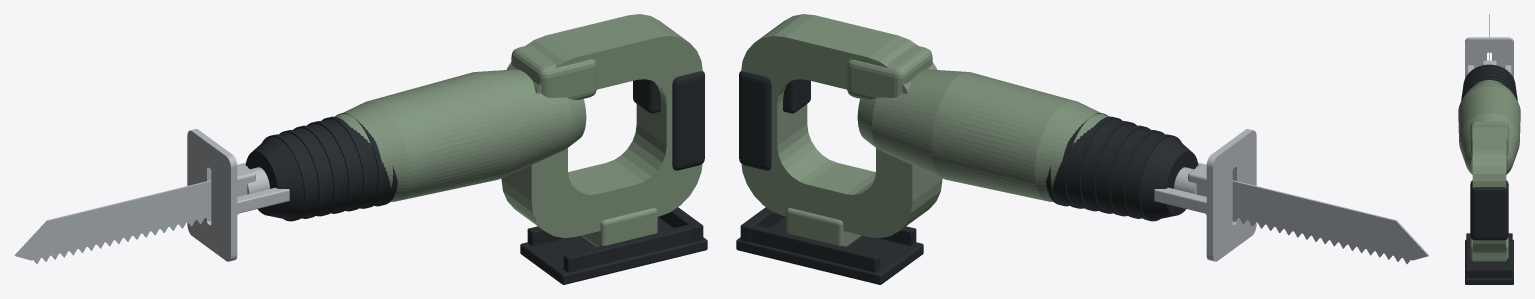
The model's file is full.fbx.
3 views of the same model, side by side, from view 1: azimuth 30°, elevation 25°; view 2: azimuth 150°, elevation 25°; view 3: azimuth 270°, elevation 25° (orthographic). The views are drawn at different scales.
Parts seen in each view (by area): view 1: Rear open D handle, Long motor housing, Front wrapped grip, Long static axial toothed blade, Small upright shoe with slot, Battery slide bottom plate, Rear dark hand grip, Upper rear shoulder, Battery slide rail -0.024, Battery mount neck, Shoe mounting stem -0.022, Inner trigger (+7 smaller); view 2: Rear open D handle, Long motor housing, Front wrapped grip, Long static axial toothed blade, Small upright shoe with slot, Battery slide bottom plate, Rear dark hand grip, Upper rear shoulder, Battery slide rail 0.024, Battery mount neck, Shoe mounting stem 0.022, Inner trigger (+7 smaller); view 3: Long motor housing, Rear open D handle, Rear dark hand grip, Small upright shoe with slot, Battery slide bottom plate, Battery slide rear stop, Front wrapped grip, Battery mount neck, Upper rear shoulder, Battery slide rail -0.024, Battery slide rail 0.024, Front grip rib 2 (+6 smaller).
Boxes of the visible parts, x1,y1,x2,y2 form: Rear open D handle: (501, 14, 702, 238); Long motor housing: (336, 69, 586, 201); Front wrapped grip: (245, 116, 391, 219); Long static axial toothed blade: (14, 168, 260, 263); Small upright shoe with slot: (187, 129, 237, 261); Battery slide bottom plate: (520, 217, 707, 284); Rear dark hand grip: (672, 71, 704, 170); Upper rear shoulder: (511, 45, 596, 99); Battery slide rail -0.024: (563, 224, 693, 272); Battery mount neck: (581, 208, 657, 246); Shoe mounting stem -0.022: (237, 187, 289, 213); Inner trigger: (633, 79, 660, 113); Rear open D handle: (741, 14, 942, 238); Long motor housing: (857, 69, 1107, 201); Front wrapped grip: (1052, 116, 1198, 219); Long static axial toothed blade: (1183, 168, 1429, 263); Small upright shoe with slot: (1206, 129, 1256, 261); Battery slide bottom plate: (736, 217, 923, 284); Rear dark hand grip: (739, 71, 771, 170); Upper rear shoulder: (847, 45, 932, 99); Battery slide rail 0.024: (750, 224, 880, 272); Battery mount neck: (786, 208, 862, 246); Shoe mounting stem 0.022: (1154, 187, 1206, 213); Inner trigger: (783, 79, 810, 113); Long motor housing: (1458, 80, 1520, 174); Rear open D handle: (1472, 125, 1506, 253); Rear dark hand grip: (1470, 180, 1508, 240); Small upright shoe with slot: (1465, 37, 1513, 78); Battery slide bottom plate: (1465, 240, 1513, 284); Battery slide rear stop: (1466, 267, 1512, 278); Front wrapped grip: (1464, 66, 1514, 93); Battery mount neck: (1470, 236, 1508, 261); Upper rear shoulder: (1470, 121, 1508, 155); Battery slide rail -0.024: (1466, 233, 1472, 267); Battery slide rail 0.024: (1506, 233, 1512, 267); Front grip rib 2: (1462, 71, 1516, 92).
Bounding box in the file's own units: 52.05 × 16.1 × 7.4.
